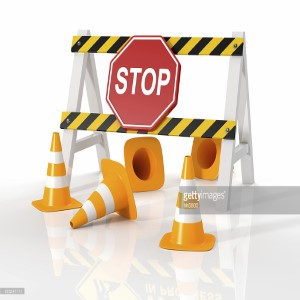traffic cone: (160, 155, 216, 253), (69, 158, 138, 229), (31, 132, 85, 212)
